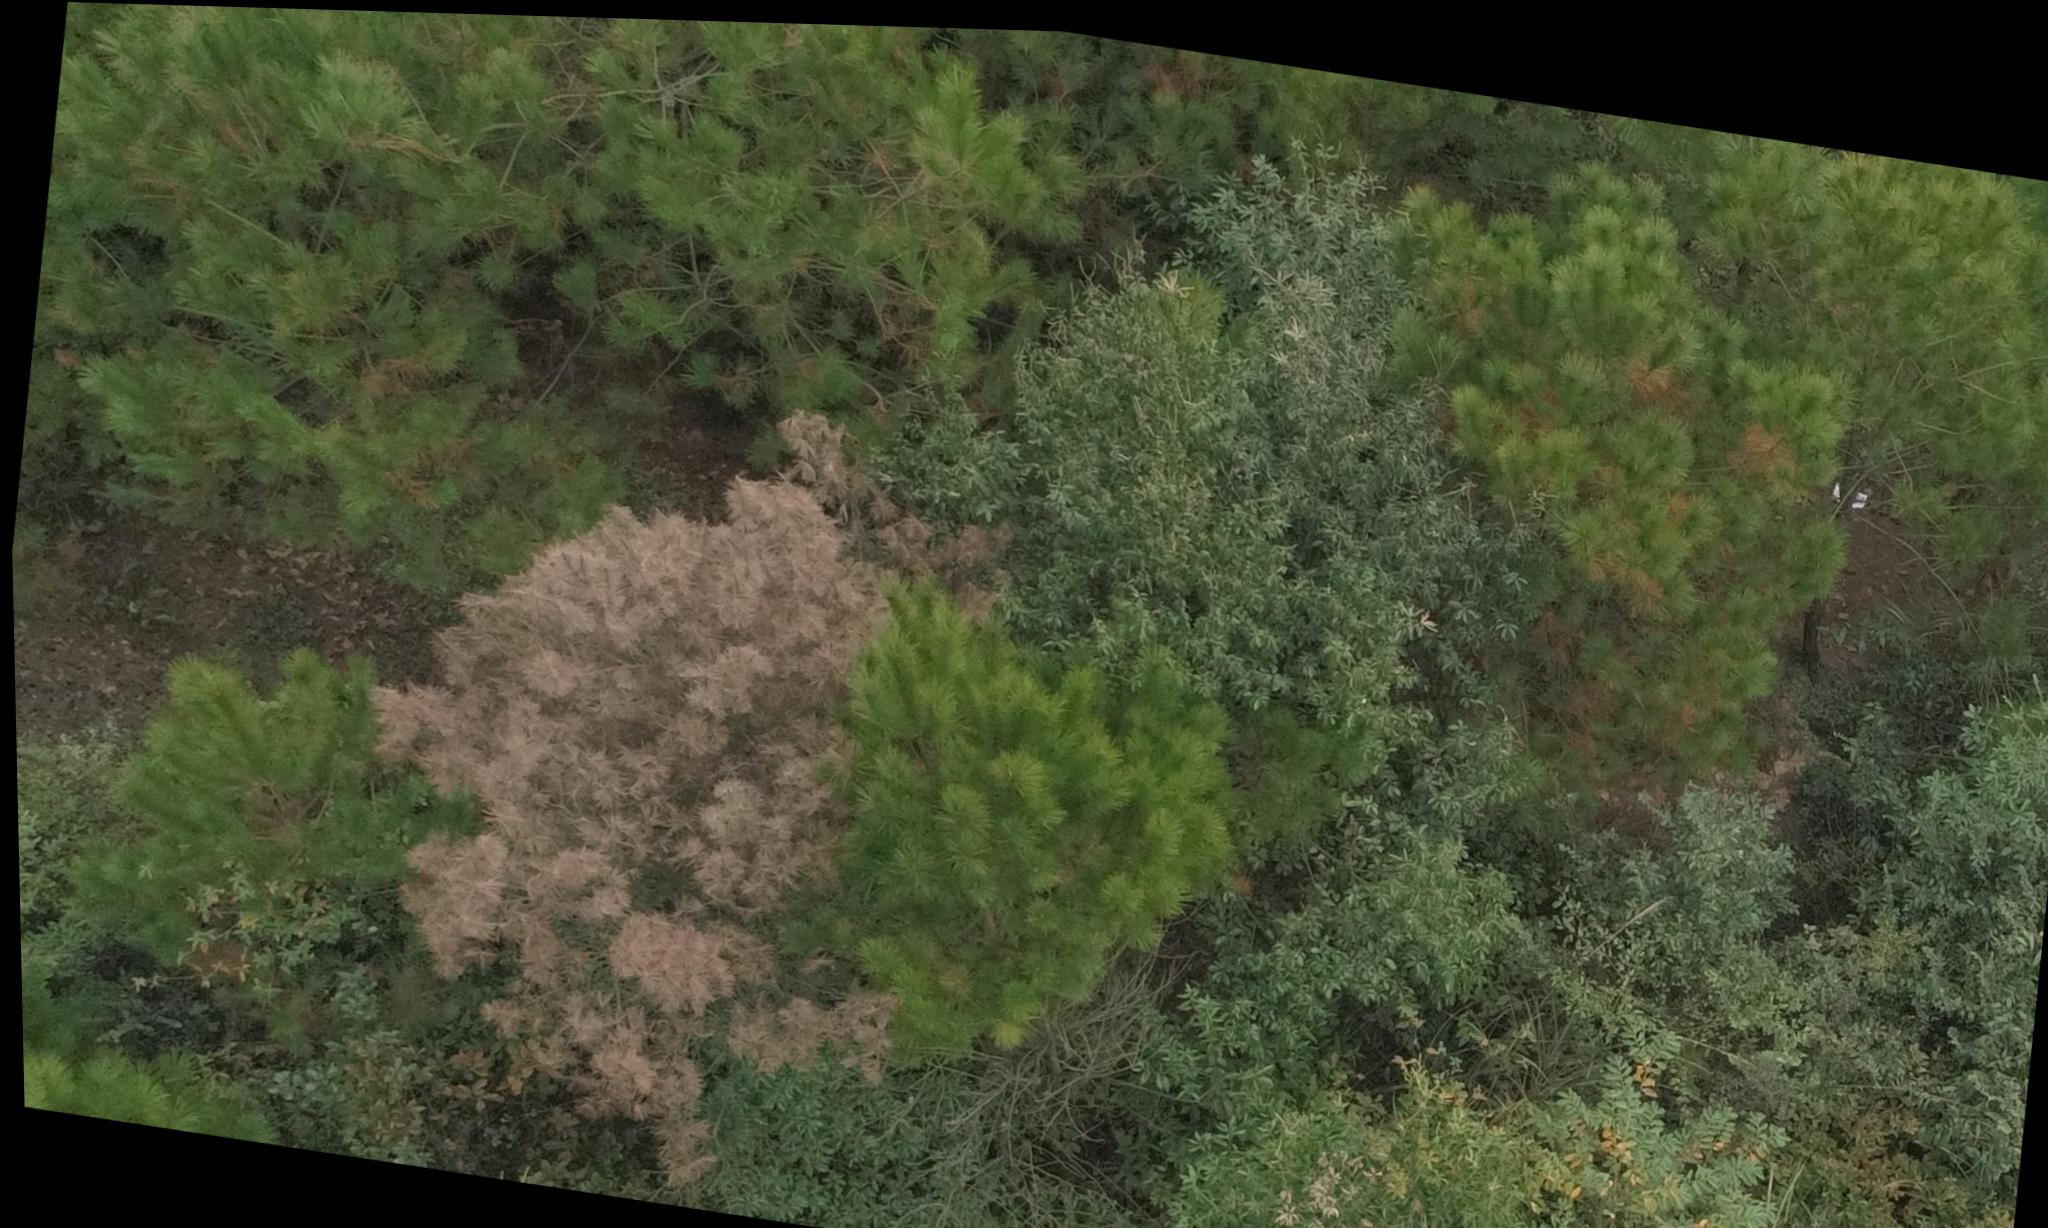heavy: (325, 439, 950, 1174)
light: (1393, 273, 1808, 773)
